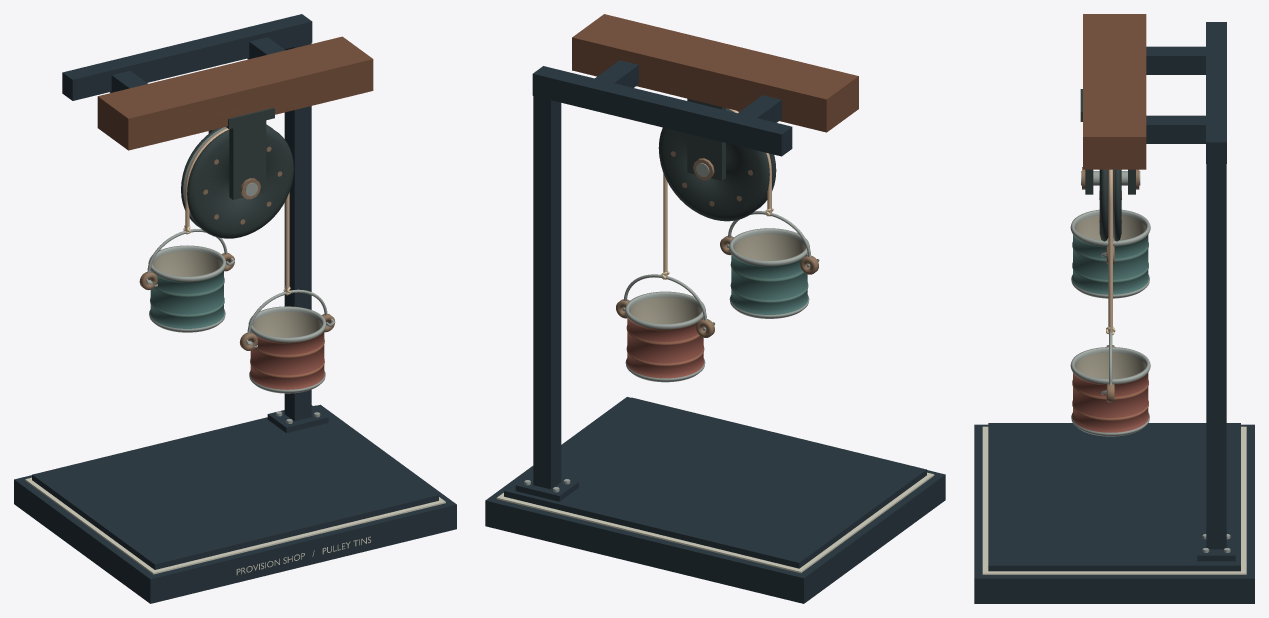
File: provision-shop-pulley-tin-display.glb
The picture shows the model from 3 angles, left to right: view 1: azimuth 30°, elevation 25°; view 2: azimuth 150°, elevation 25°; view 3: azimuth 270°, elevation 25°; orthographic projection. The views are drawn at different scales.
Parts seen in each view (by area): view 1: Quiet exhibition top field, Cropped overhead old timber, Separately styled exhibition riser, Single sheave with real recessed cord groove, Independent exhibit back crossbar, Bored empty rolled enamel tub 1, Bored empty rolled enamel tub -1, Independent museum steel upright, Actual mounting cheek, Silver edge of exhibition riser, Single continuous cord over groove between vessels, Visible upright plated floor shoe; view 2: Quiet exhibition top field, Cropped overhead old timber, Separately styled exhibition riser, Independent museum steel upright, Independent exhibit back crossbar, Bored empty rolled enamel tub -1, Bored empty rolled enamel tub 1, Single sheave with real recessed cord groove, Silver edge of exhibition riser, Actual mounting cheek.001, Visible upright plated floor shoe, Small visible reversible support from stand to wood (+2 smaller); view 3: Quiet exhibition top field, Separately styled exhibition riser, Cropped overhead old timber, Independent museum steel upright, Bored empty rolled enamel tub 1, Bored empty rolled enamel tub -1, Independent exhibit back crossbar, Silver edge of exhibition riser, Small visible reversible support from stand to wood, Small visible reversible support from stand to wood.001, Single sheave with real recessed cord groove, Single continuous cord over groove between vessels (+1 smaller).
Part boxes in pixels (x1,y1,x2,y2): Quiet exhibition top field: (32,405,438,569); Cropped overhead old timber: (97,36,373,150); Separately styled exhibition riser: (14,404,456,603); Single sheave with real recessed cord groove: (181,124,293,238); Independent exhibit back crossbar: (62,14,312,100); Bored empty rolled enamel tub 1: (248,306,326,393); Bored empty rolled enamel tub -1: (148,245,226,332); Independent museum steel upright: (284,43,311,421); Actual mounting cheek: (229,120,266,199); Silver edge of exhibition riser: (25,477,445,574); Single continuous cord over groove between vessels: (185,128,289,292); Visible upright plated floor shoe: (267,405,328,433); Quiet exhibition top field: (504,397,926,568); Cropped overhead old timber: (572,14,858,132); Separately styled exhibition riser: (485,397,945,603); Independent museum steel upright: (533,96,561,489); Independent exhibit back crossbar: (532,66,792,156); Bored empty rolled enamel tub -1: (729,228,809,318); Bored empty rolled enamel tub 1: (625,291,705,382); Single sheave with real recessed cord groove: (658,108,776,221); Silver edge of exhibition riser: (496,472,934,573); Actual mounting cheek.001: (687,98,725,180); Visible upright plated floor shoe: (515,473,578,501); Small visible reversible support from stand to wood: (738,95,781,122); Quiet exhibition top field: (988,423,1240,571); Separately styled exhibition riser: (974,424,1254,603); Cropped overhead old timber: (1083,14,1146,169); Independent museum steel upright: (1206,164,1226,549); Bored empty rolled enamel tub 1: (1070,347,1150,436); Bored empty rolled enamel tub -1: (1070,209,1150,298); Independent exhibit back crossbar: (1206,22,1226,163); Silver edge of exhibition riser: (982,426,1246,574); Small visible reversible support from stand to wood: (1146,46,1205,74); Small visible reversible support from stand to wood.001: (1146,115,1205,143); Single sheave with real recessed cord groove: (1099,169,1121,241); Single continuous cord over groove between vessels: (1108,169,1112,332).
Size of the model in its own units: 1.09 by 1.49 by 0.841.
